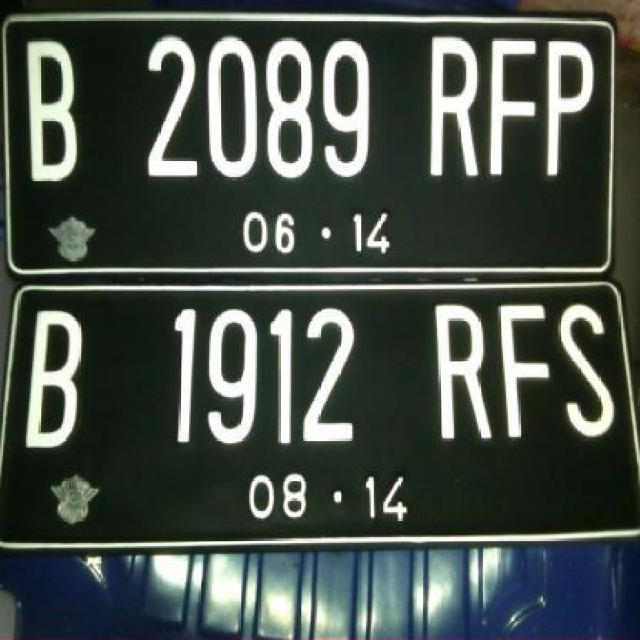0: (200, 34, 263, 182)
1: (165, 302, 205, 454), (265, 302, 300, 452)
2: (302, 302, 362, 450), (146, 32, 202, 185)
8: (261, 34, 317, 182)
9: (201, 304, 265, 454), (322, 41, 376, 184)
B: (15, 35, 90, 196), (17, 304, 89, 458)
F: (498, 294, 554, 443), (486, 34, 540, 186)
P: (538, 33, 598, 187)
R: (432, 296, 496, 446), (425, 36, 483, 182)
S: (553, 297, 618, 443)
